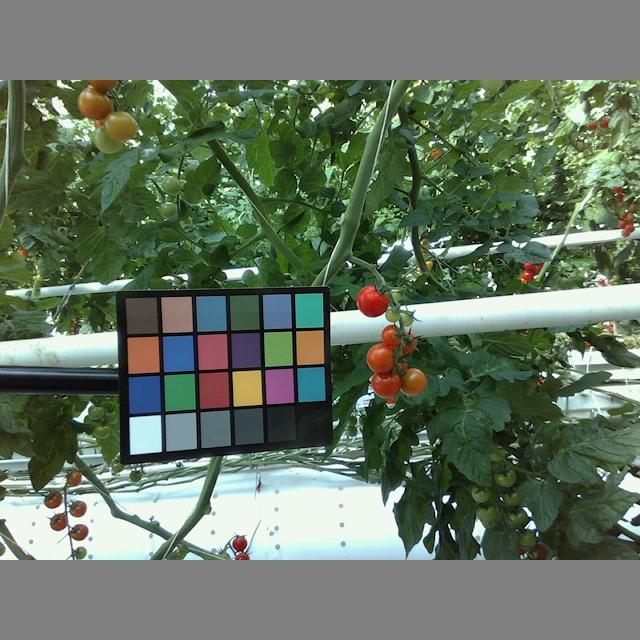green: (94, 124, 128, 155)
pink: (76, 85, 115, 118), (103, 112, 139, 143), (400, 365, 427, 397)
red: (358, 281, 389, 319), (365, 343, 397, 376), (370, 368, 402, 398), (382, 324, 406, 349)
